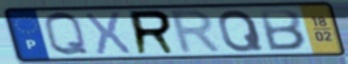B: (257, 8, 308, 52)
Q: (42, 10, 93, 58), (216, 8, 266, 54)
R: (169, 8, 226, 56), (126, 8, 179, 57)
X: (82, 10, 135, 56)
